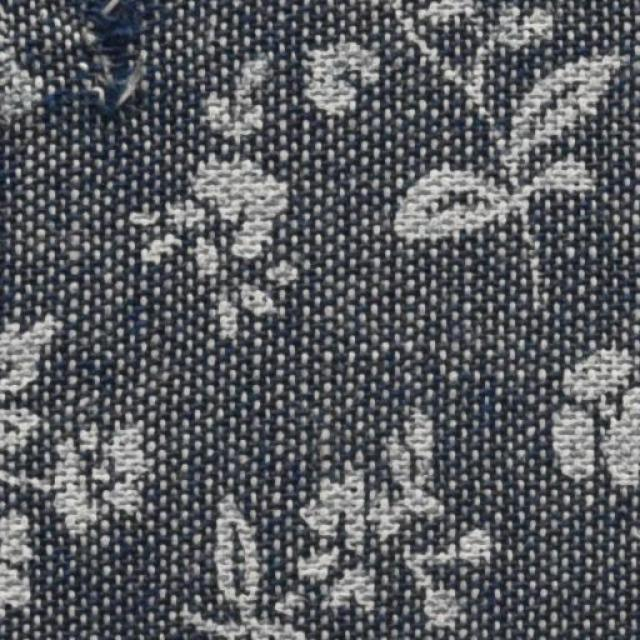Snag: (56, 3, 147, 129)
